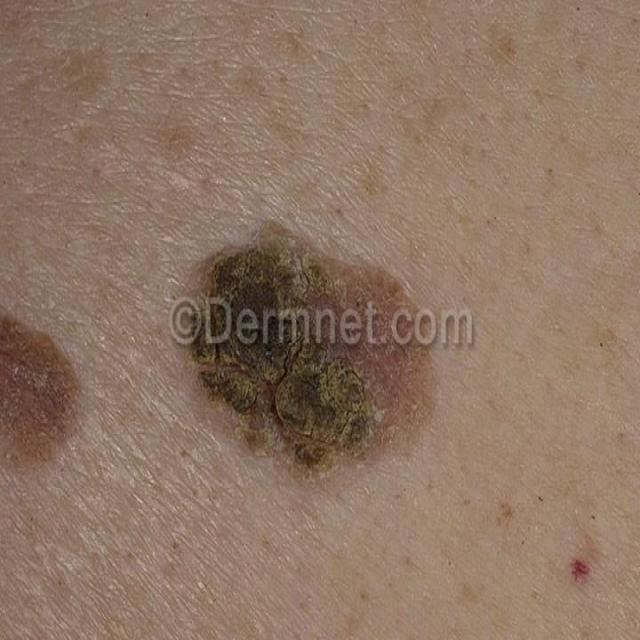Eczema: (0, 230, 430, 496)
